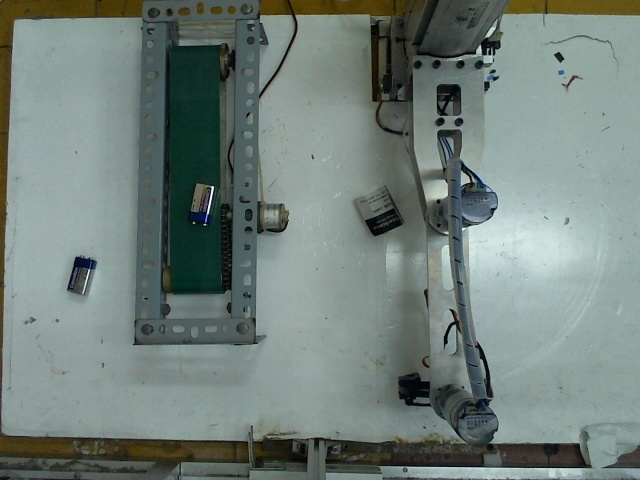battery: (185, 172, 218, 227), (70, 246, 102, 296)
